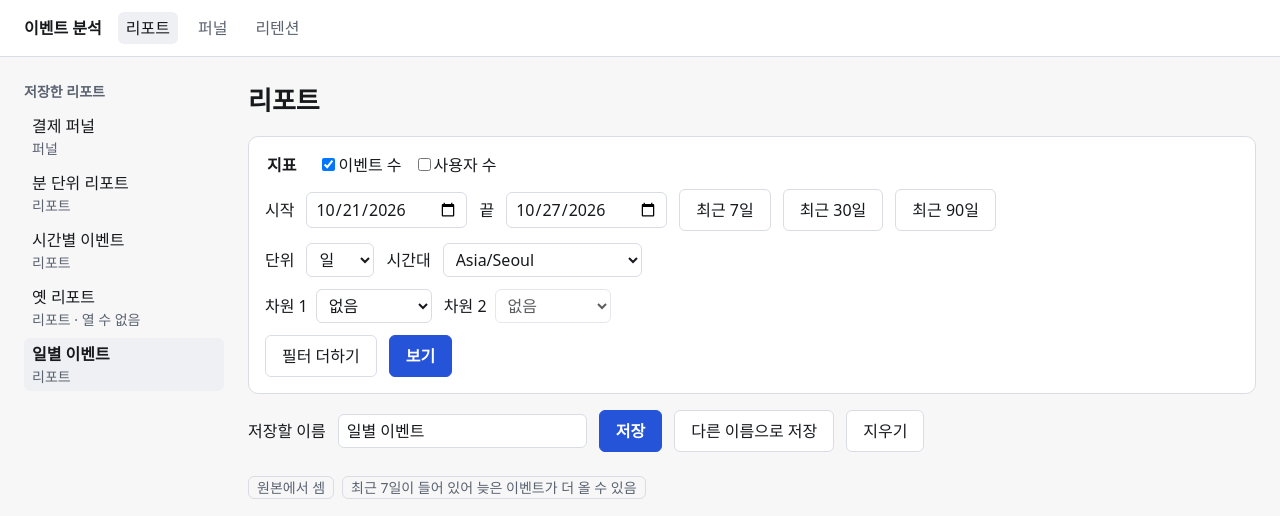
it: 열기 › 연 것을 목록에서 다시 누르면 고친 양식이 저장한 설정으로 돌아간다
Select "주" in the dropdown labelled "단위" at point(340, 260), box [306,243,374,277]
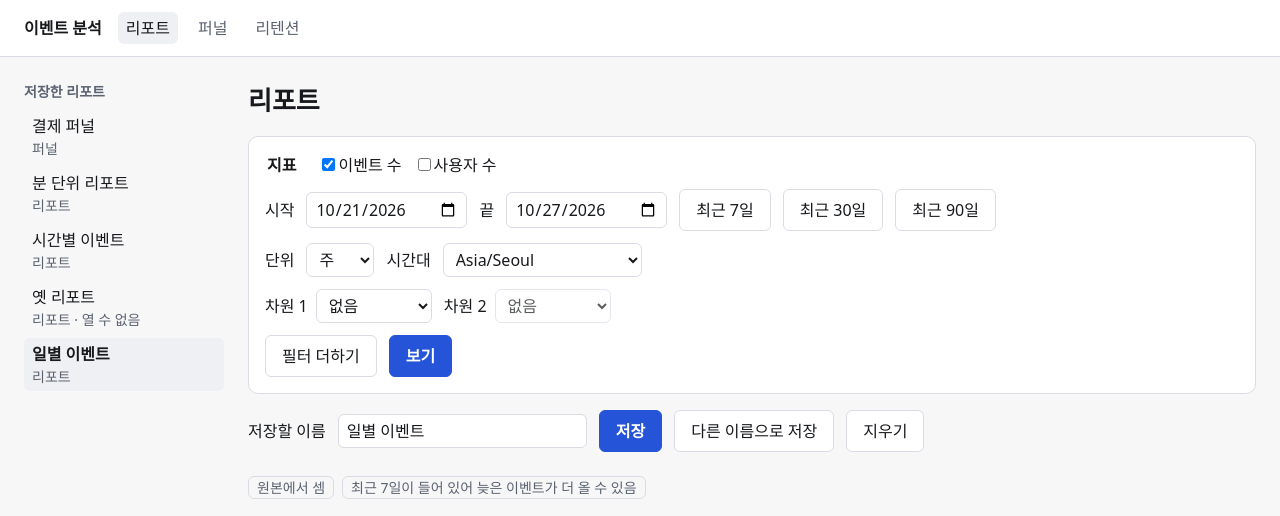
Click the link "일별 이벤트 리포트".
click(124, 364)  # box [24,338,224,391]
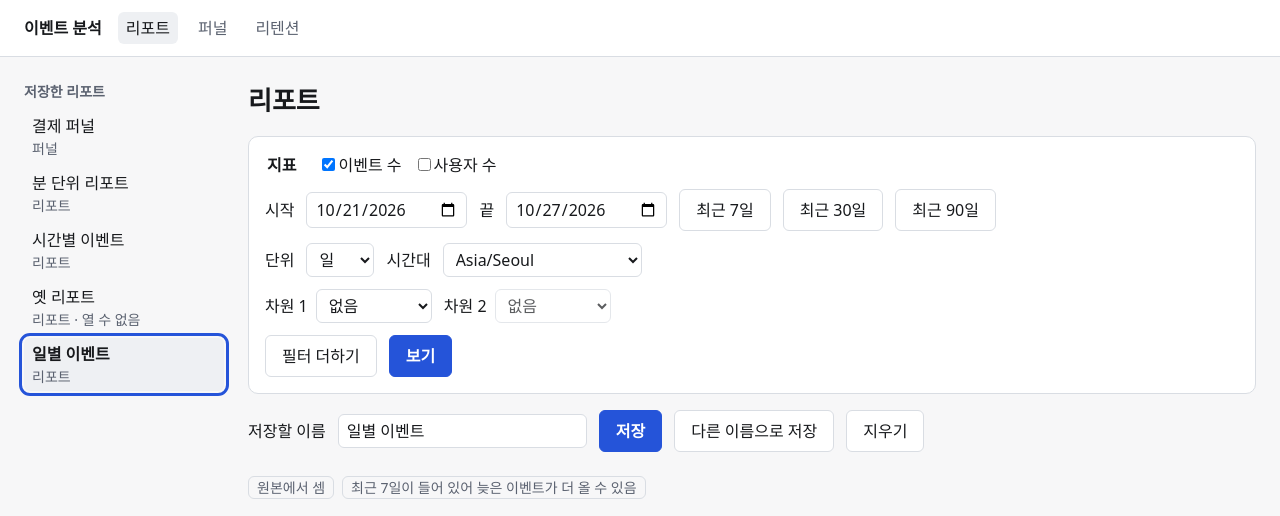
Now the dropdown labelled "단위" shows "일", box [306,243,374,277]
